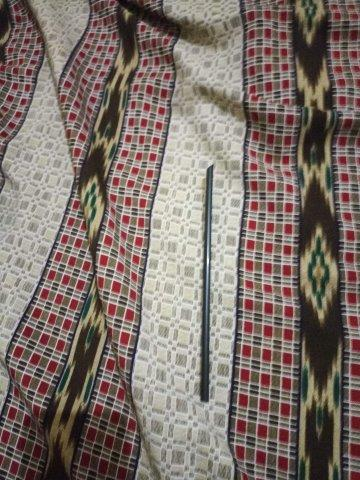sedotan: (200, 164, 214, 401)
